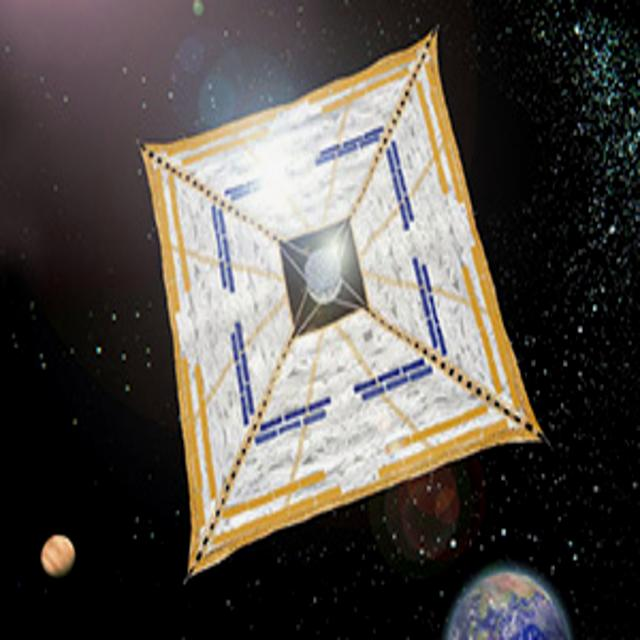large_debris: (38, 498, 80, 596)
medium_debris: (125, 0, 572, 588)
